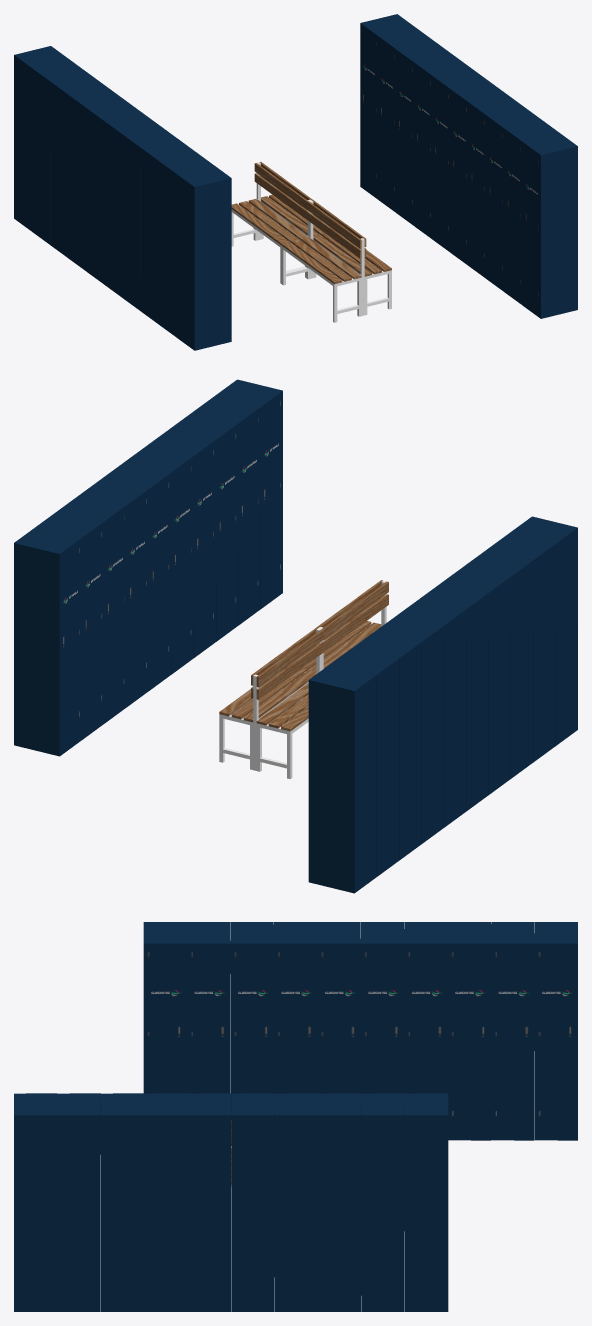
File: Locker Room Fix.fbx
3 renders of one model, top to bottom at view 1: azimuth 30°, elevation 25°; view 2: azimuth 150°, elevation 25°; view 3: azimuth 270°, elevation 25°, orthographic. The views are drawn at different scales.
Parts seen in each view (by area): view 1: Locker Closed Low, Locker Closed Low.001, Cube.003; view 2: Locker Closed Low.001, Locker Closed Low, Cube.003; view 3: Locker Closed Low, Locker Closed Low.001.
Boxes of the visible parts, bbox=[...] form: Locker Closed Low: bbox=[360, 14, 577, 318]; Locker Closed Low.001: bbox=[14, 46, 231, 350]; Cube.003: bbox=[231, 162, 391, 322]; Locker Closed Low.001: bbox=[308, 516, 577, 893]; Locker Closed Low: bbox=[14, 379, 282, 756]; Cube.003: bbox=[219, 580, 388, 779]; Locker Closed Low: bbox=[14, 1093, 448, 1311]; Locker Closed Low.001: bbox=[143, 922, 577, 1140].
Bounding box in the file's own units: 400 × 190 × 493.
